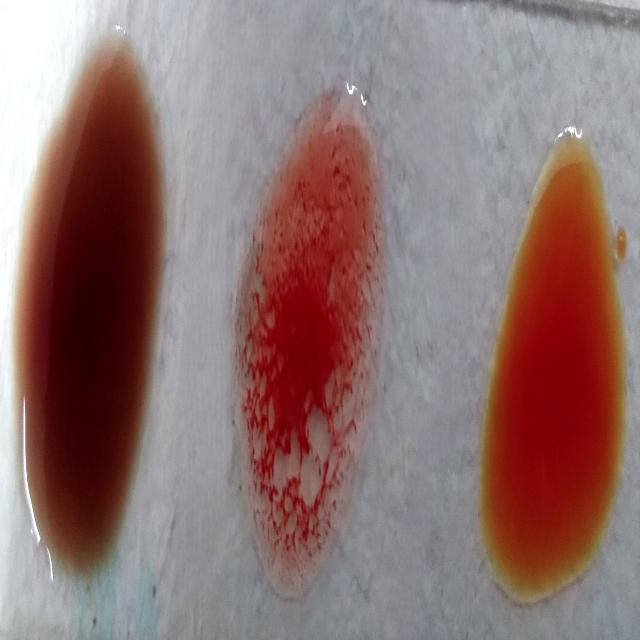D: (242, 102, 388, 617)
